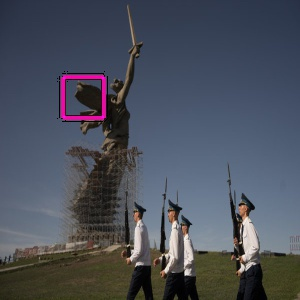square: (59, 72, 107, 122)
